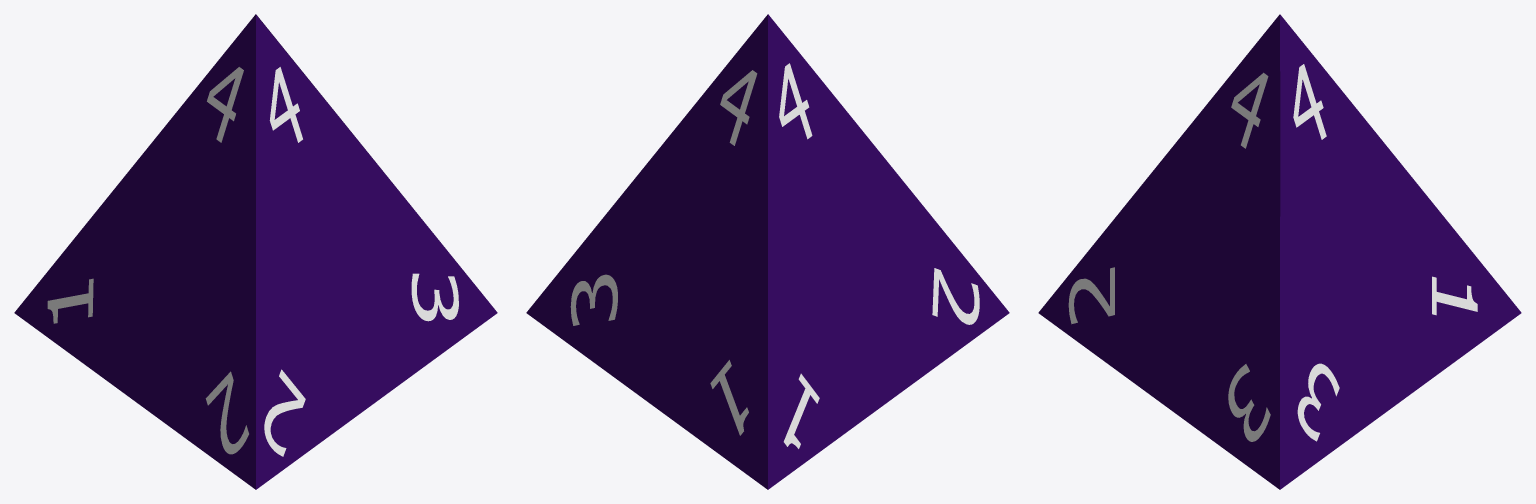
The model's file is dnd_dice_d4.dae.
3 views of the same model, side by side, from view 1: azimuth 30°, elevation 25°; view 2: azimuth 150°, elevation 25°; view 3: azimuth 270°, elevation 25° (orthographic).
Visible parts, largest first — view 1: group_2, group_1, instance_1, instance_7, instance_2, instance_10, instance_9, instance_8; view 2: group_2, group_3, instance_2, instance_3, instance_4, instance_10, instance_8, instance_6; view 3: group_3, group_1, instance_3, instance_1, instance_7, instance_4, instance_9, instance_6.
Boxes of the visible parts, left/top/right/bottom form: group_2: left=14, top=14, right=255, bottom=489; group_1: left=256, top=15, right=497, bottom=489; instance_1: left=269, top=67, right=302, bottom=142; instance_7: left=411, top=273, right=458, bottom=321; instance_2: left=207, top=67, right=243, bottom=142; instance_10: left=205, top=371, right=248, bottom=454; instance_9: left=264, top=369, right=305, bottom=456; instance_8: left=47, top=278, right=93, bottom=323; group_2: left=768, top=14, right=1009, bottom=489; group_3: left=526, top=14, right=767, bottom=489; instance_2: left=779, top=63, right=812, bottom=139; instance_3: left=720, top=70, right=757, bottom=145; instance_4: left=570, top=274, right=617, bottom=325; instance_10: left=932, top=268, right=979, bottom=324; instance_8: left=783, top=373, right=819, bottom=448; instance_6: left=710, top=360, right=748, bottom=435; group_3: left=1280, top=14, right=1521, bottom=489; group_1: left=1038, top=15, right=1280, bottom=489; instance_3: left=1293, top=64, right=1326, bottom=139; instance_1: left=1231, top=72, right=1268, bottom=148; instance_7: left=1228, top=364, right=1270, bottom=441; instance_4: left=1297, top=363, right=1339, bottom=441; instance_9: left=1068, top=267, right=1114, bottom=324; instance_6: left=1432, top=276, right=1477, bottom=315.
Bounding box in the file's own units: 1.15 × 1.32 × 1.08.
